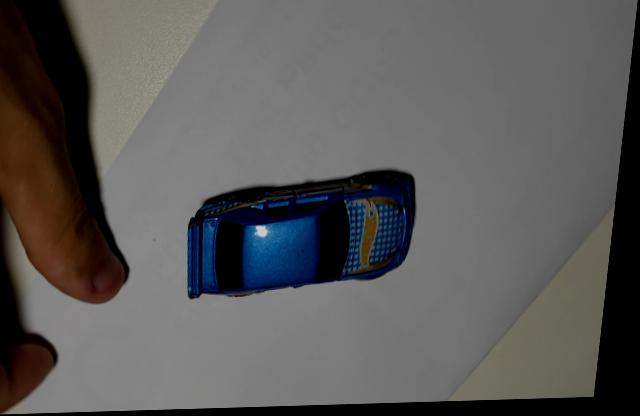04_MERZEDES: (193, 171, 423, 300)
